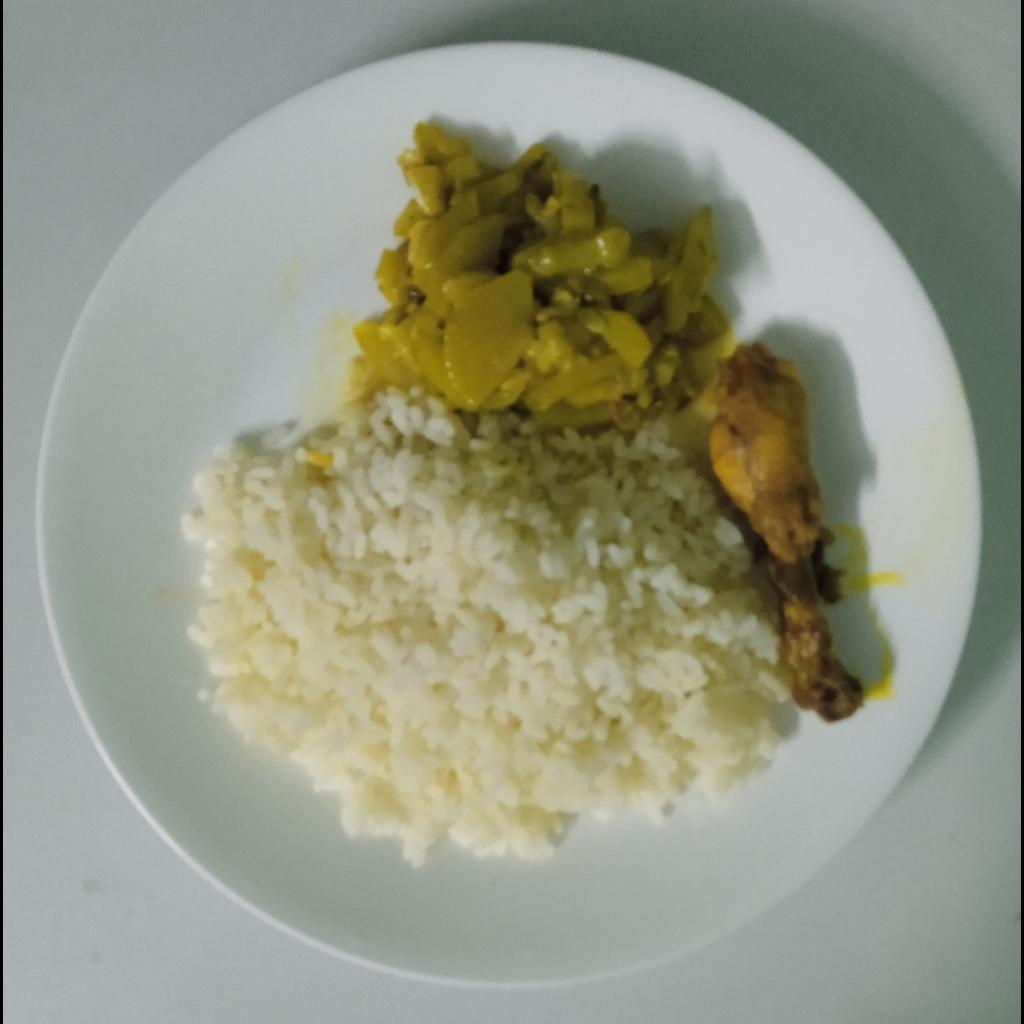chicken: (709, 338, 865, 727)
dundol: (352, 121, 734, 429)
rice: (179, 390, 794, 873)
